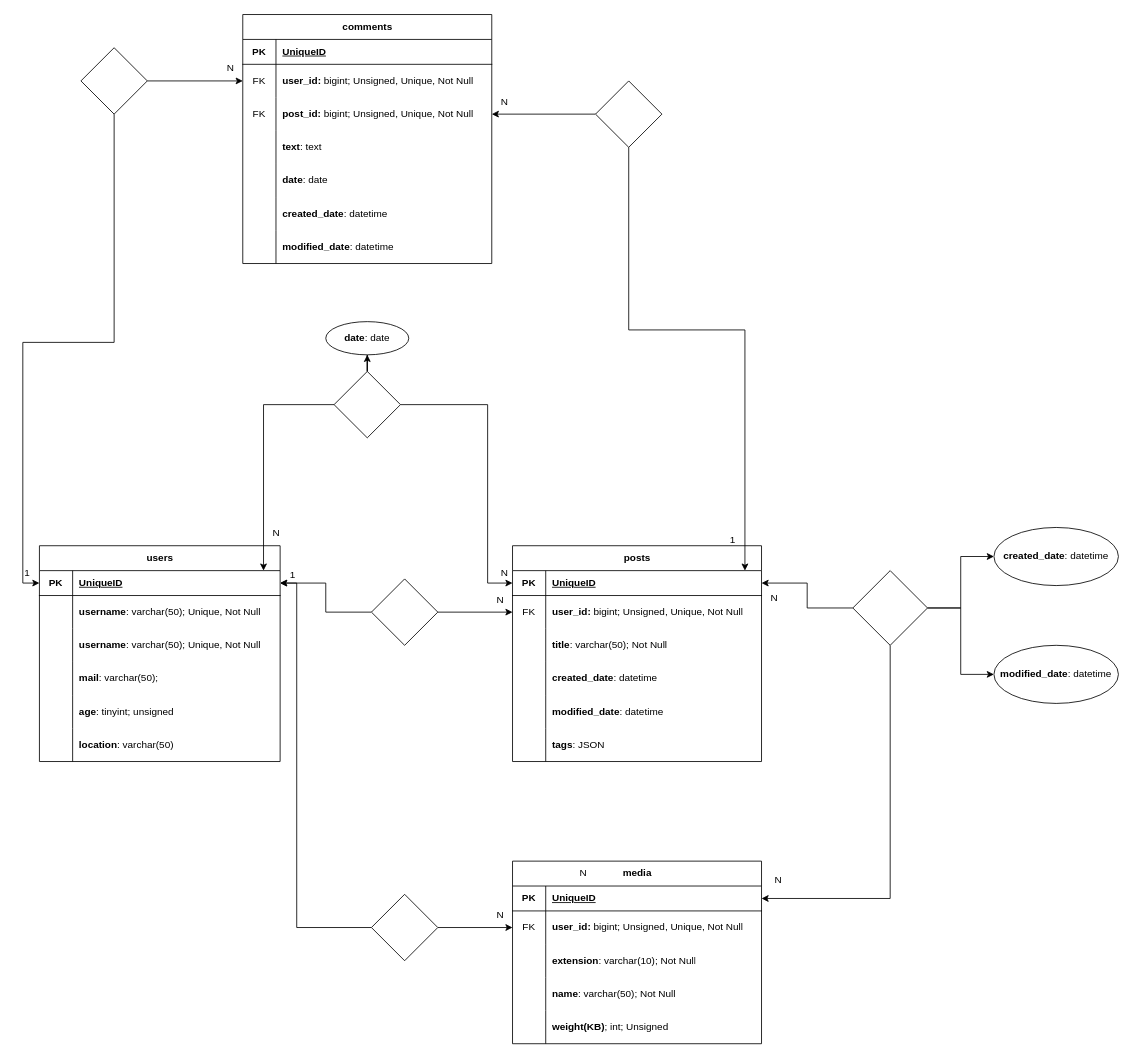
Image size: 1133x1058. Some labels were removed from this diagram. Each missing label, with the centre of its shape:
"likes" belongs at point 366,404.
"media-post" belongs at point 890,607.
